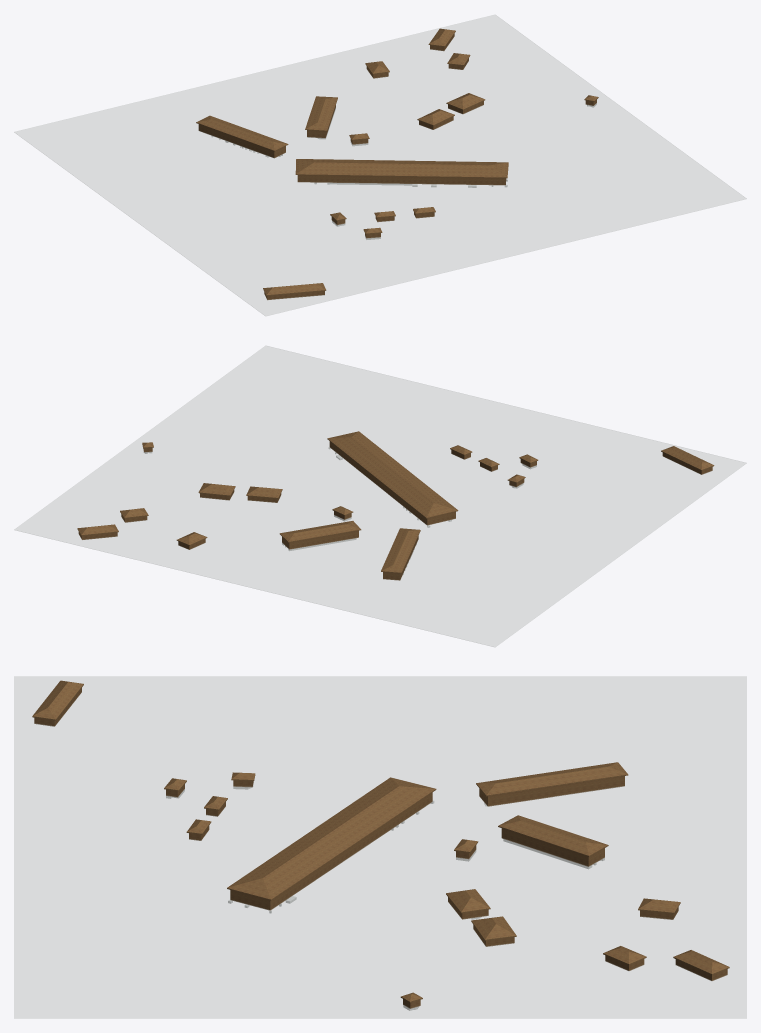
The model's file is WaldfabrikHorgauu.glb.
3 views of the same model, one above another, from view 1: azimuth 30°, elevation 25°; view 2: azimuth 150°, elevation 25°; view 3: azimuth 270°, elevation 25° (orthographic). The views are drawn at different scales.
Parts seen in each view (by area): view 1: VisualSceneNode1.155, VisualSceneNode1.050, VisualSceneNode1.048, VisualSceneNode1.096, VisualSceneNode1.051, VisualSceneNode1.162, VisualSceneNode1.147; view 2: VisualSceneNode1.155, VisualSceneNode1.050, VisualSceneNode1.096, VisualSceneNode1.051, VisualSceneNode1.046, VisualSceneNode1.157, VisualSceneNode1.147; view 3: VisualSceneNode1.155, VisualSceneNode1.050, VisualSceneNode1.096, VisualSceneNode1.051, VisualSceneNode1.046, VisualSceneNode1.164, VisualSceneNode1.147, VisualSceneNode1.159, VisualSceneNode1.150, VisualSceneNode1.149, VisualSceneNode1.153.
Part boxes in pixels (bbox=[...]): VisualSceneNode1.155: bbox=[14, 14, 746, 316]; VisualSceneNode1.050: bbox=[295, 159, 508, 178]; VisualSceneNode1.048: bbox=[297, 175, 505, 184]; VisualSceneNode1.096: bbox=[196, 115, 288, 151]; VisualSceneNode1.051: bbox=[305, 96, 337, 131]; VisualSceneNode1.162: bbox=[199, 124, 274, 157]; VisualSceneNode1.147: bbox=[263, 283, 326, 295]; VisualSceneNode1.155: bbox=[14, 345, 746, 647]; VisualSceneNode1.050: bbox=[327, 431, 458, 518]; VisualSceneNode1.096: bbox=[381, 528, 420, 573]; VisualSceneNode1.051: bbox=[279, 521, 361, 542]; VisualSceneNode1.046: bbox=[329, 441, 427, 524]; VisualSceneNode1.157: bbox=[289, 530, 358, 549]; VisualSceneNode1.147: bbox=[661, 446, 714, 470]; VisualSceneNode1.155: bbox=[14, 676, 746, 1018]; VisualSceneNode1.050: bbox=[227, 777, 436, 900]; VisualSceneNode1.096: bbox=[476, 762, 628, 796]; VisualSceneNode1.051: bbox=[498, 815, 608, 856]; VisualSceneNode1.046: bbox=[269, 792, 432, 909]; VisualSceneNode1.164: bbox=[488, 776, 623, 805]; VisualSceneNode1.147: bbox=[32, 680, 83, 720]; VisualSceneNode1.159: bbox=[502, 828, 589, 866]; VisualSceneNode1.150: bbox=[471, 916, 516, 940]; VisualSceneNode1.149: bbox=[446, 889, 490, 913]; VisualSceneNode1.153: bbox=[673, 950, 729, 974].
Bounding box in the file's own units: 252 × 7.36 × 228.
3 materials, 2 textured.
